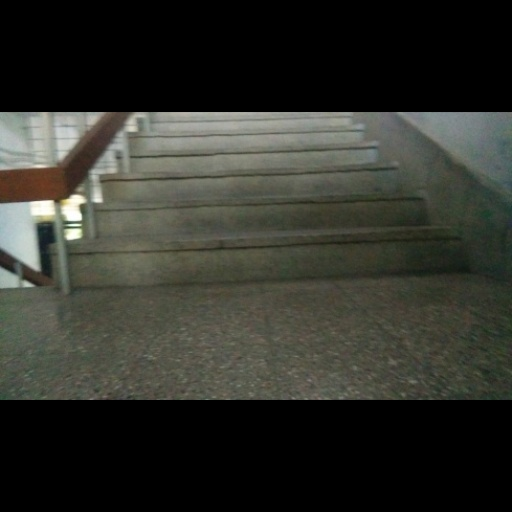Stairs: (68, 113, 465, 287)
